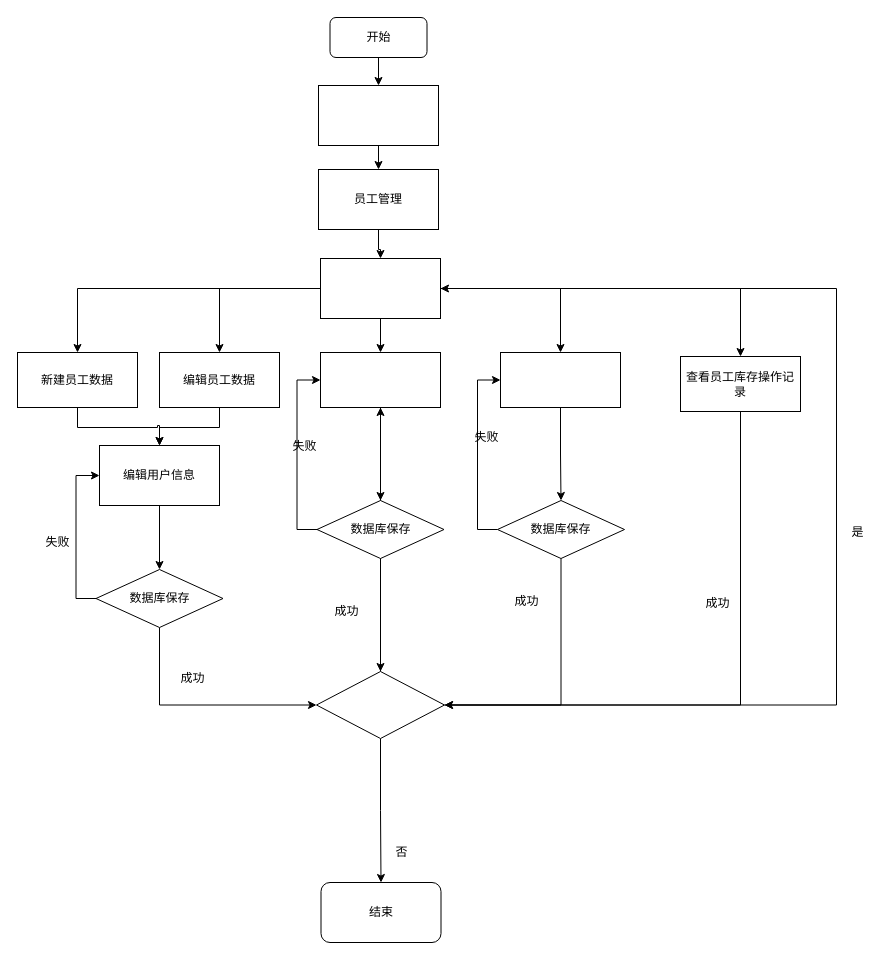
The diagram is 890 pixels wide and 960 high, and some of its shapes have lost their labels. The shapes that lost their labels are listed below. From the top down, each one's centre as x and y in pixels, then its label:
At pixel 378 115: "管理员登入系统".
At pixel 380 288: "选择操作".
At pixel 380 380: "删除员工数据".
At pixel 560 380: "重置员工密码".
At pixel 380 704: "是否继续操作".
